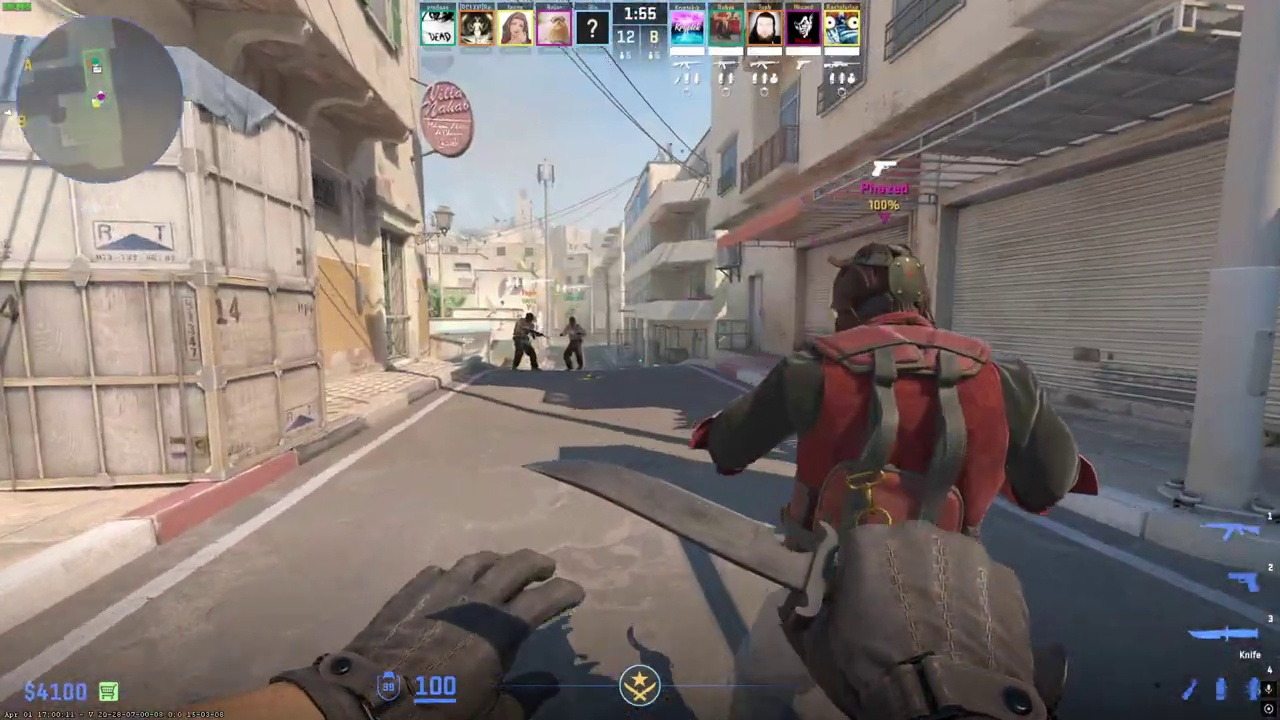Terrorist: (743, 241, 1073, 552), (511, 312, 542, 373), (561, 316, 585, 371)
